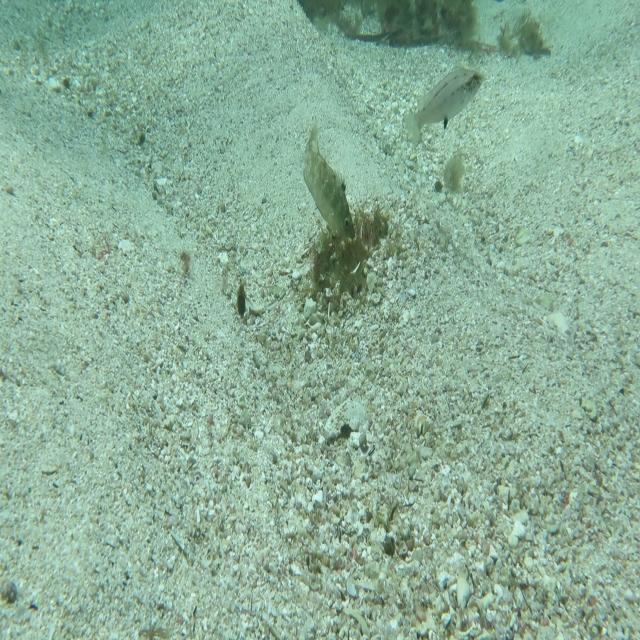INSF: (297, 115, 354, 248)
core_nest: (328, 214, 377, 258)
female: (400, 61, 487, 156)
nest: (304, 190, 397, 312)
